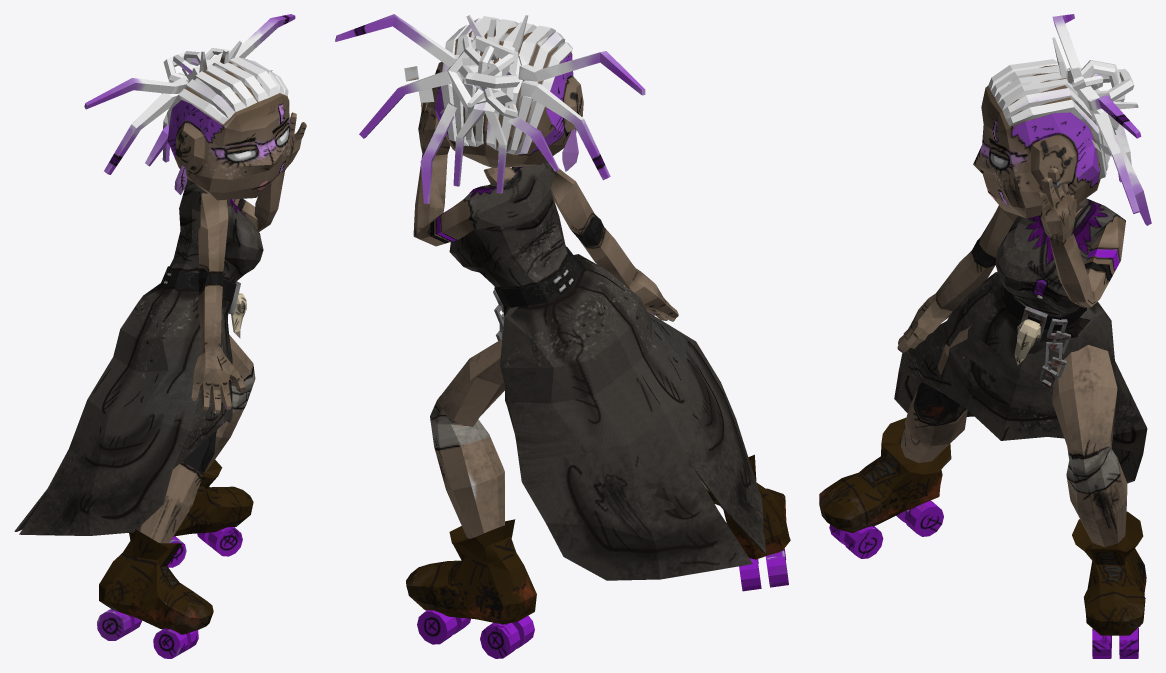
File: bruja_000028.obj
3 renders of one model, left to right at view 1: azimuth 30°, elevation 25°; view 2: azimuth 150°, elevation 25°; view 3: azimuth 270°, elevation 25°, orthographic. The views are drawn at different scales.
Visible parts, largest first — view 1: Bruja_Plane.001; view 2: Bruja_Plane.001; view 3: Bruja_Plane.001.
Part boxes in pixels (<box>): Bruja_Plane.001: <box>14,14,306,658</box>; Bruja_Plane.001: <box>335,14,790,658</box>; Bruja_Plane.001: <box>819,14,1151,658</box>.
Size of the model in its own units: 9.92 by 15.44 by 7.82.
